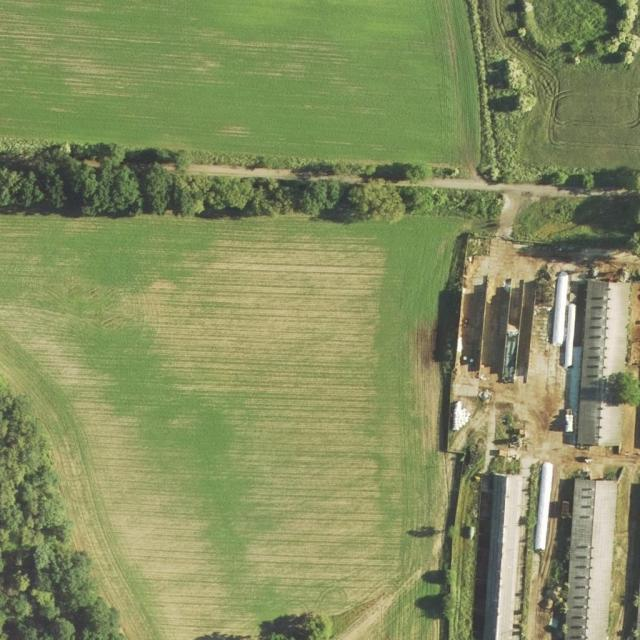building: (576, 280, 631, 447), (484, 473, 525, 640), (550, 271, 578, 368), (533, 461, 555, 551)
greenland: (521, 200, 640, 244)
metalled_road: (160, 159, 639, 240)
